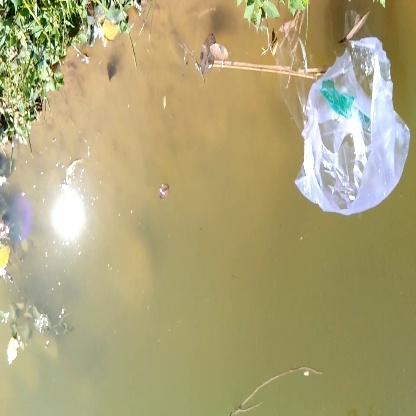plastic-bag: (286, 37, 414, 217)
